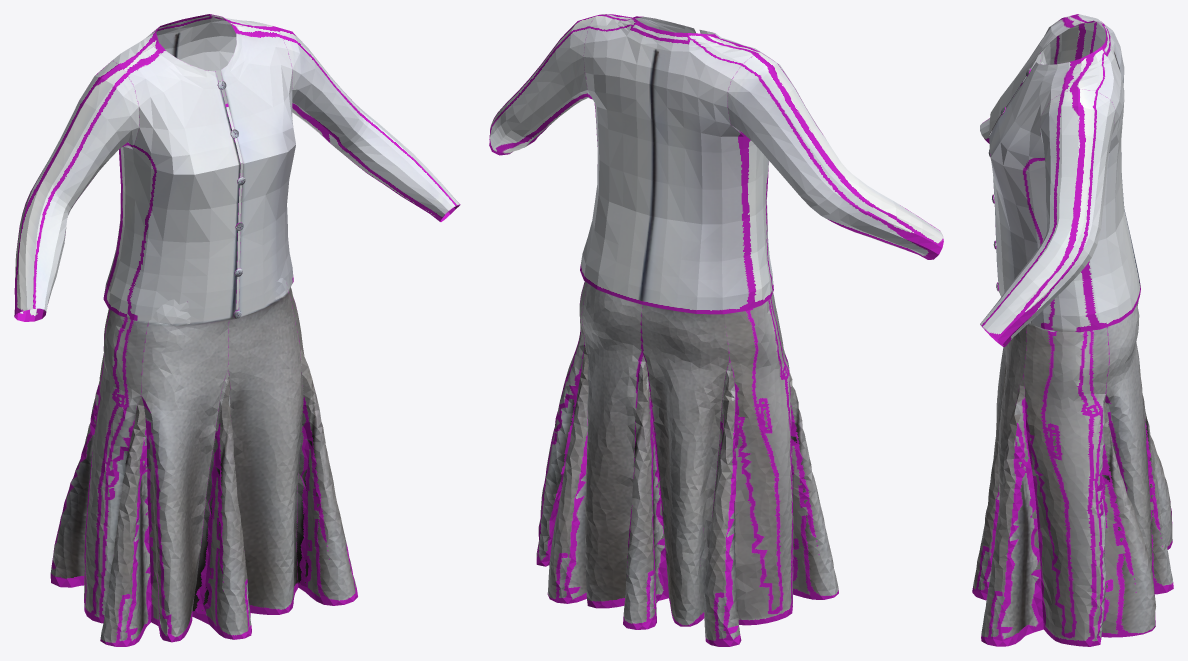
3 renders of one model, left to right at view 1: azimuth 30°, elevation 25°; view 2: azimuth 150°, elevation 25°; view 3: azimuth 270°, elevation 25°, orthographic. The views are drawn at different scales.
Bounding box in the file's own units: 0.747 × 0.9192 × 0.299.
Materials: 1 (1 with a texture image).
